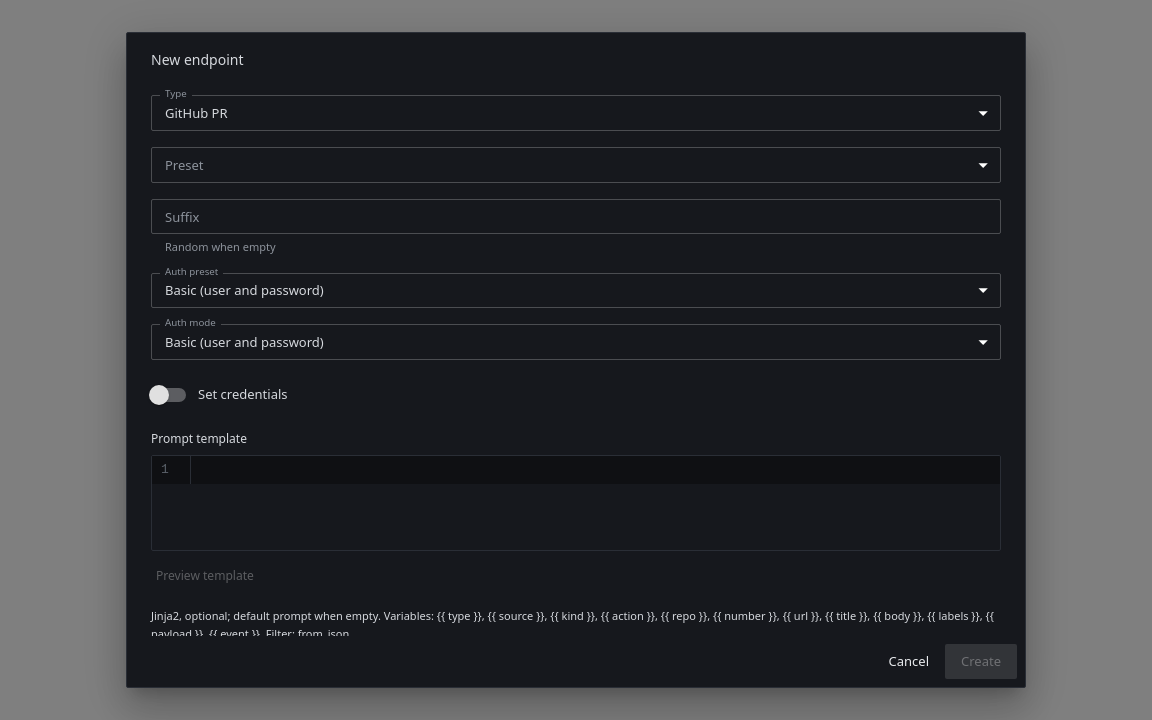
create › create requires a preset
Expected: the button "Create" is disabled, [945,644,1017,679]
Click the dropdown named "Preset" at [576, 165], box [151,147,1001,183]
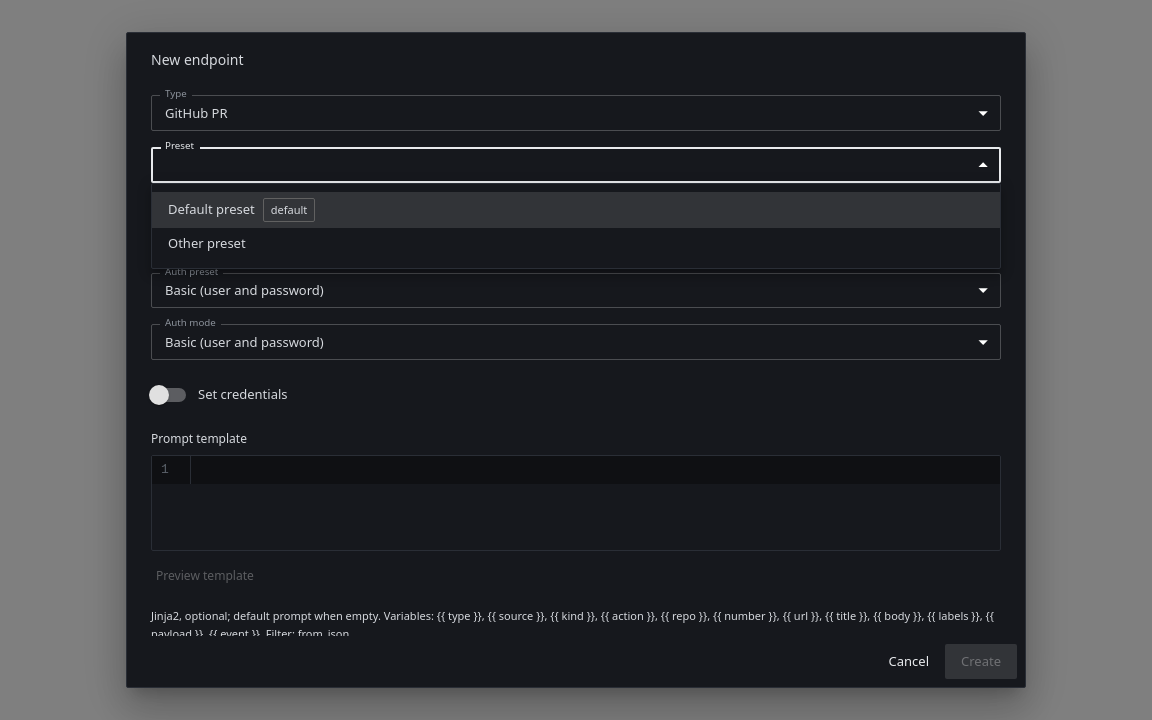
Click the option "Default preset default" at [211, 209], box [152,192,1000,228]
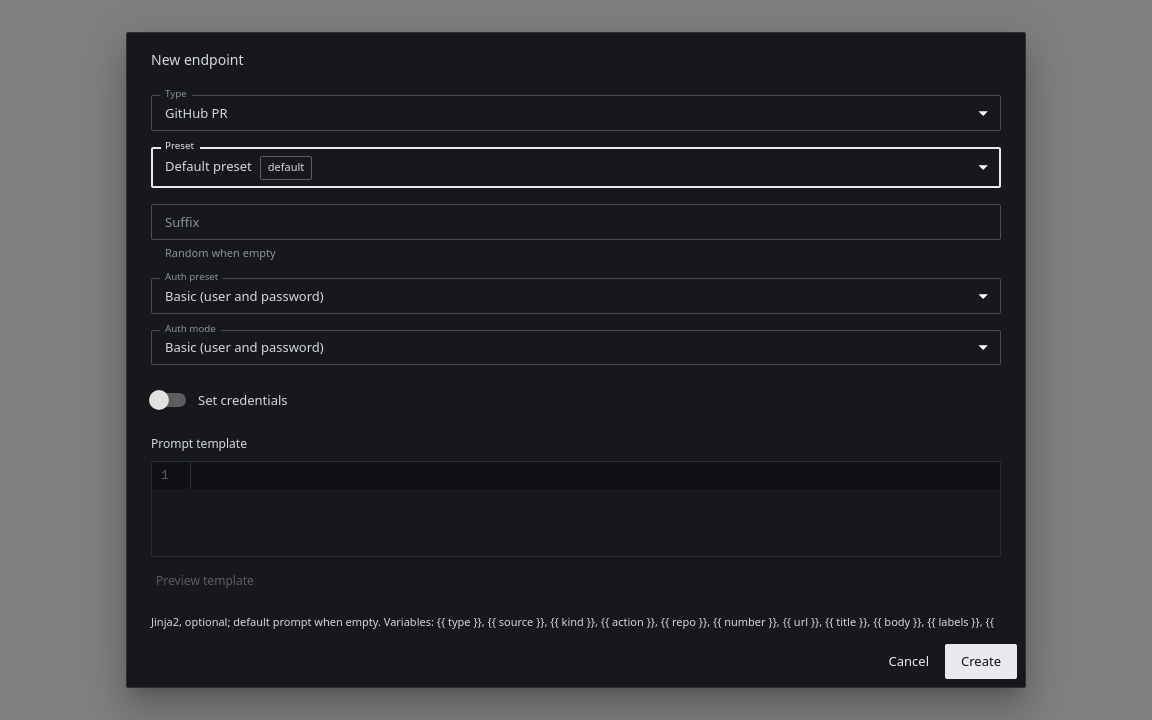
Expected: the button "Create" is enabled, [945,644,1017,679]
